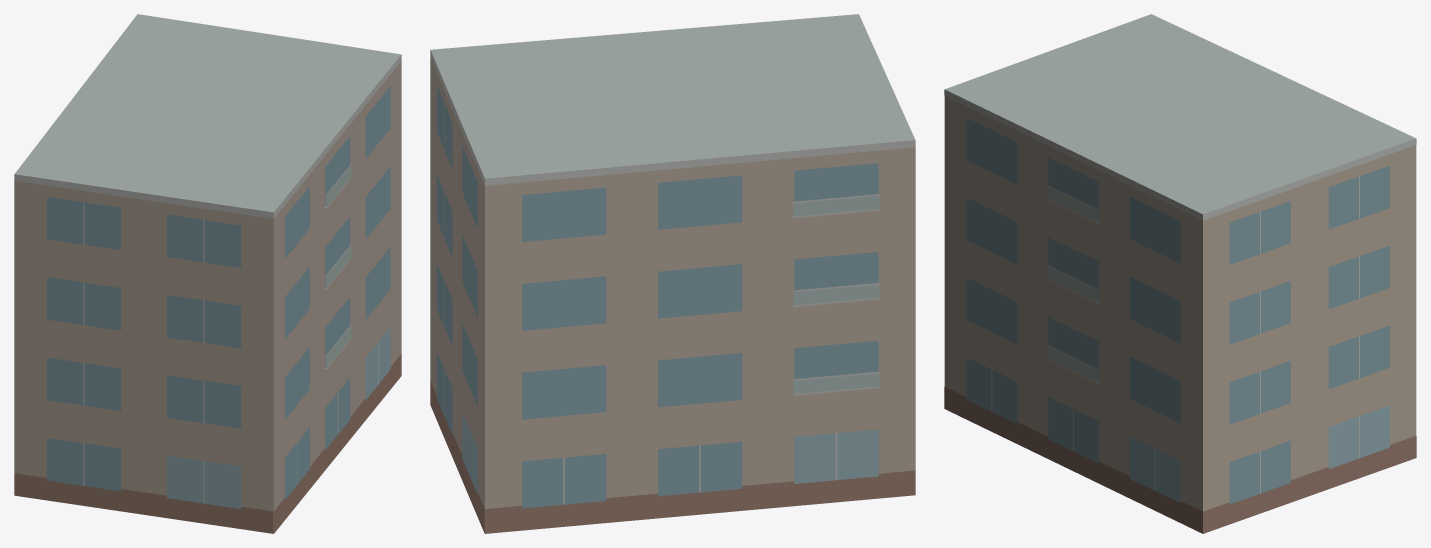
Rendered from survey-upis-32887373.glb.
3 views of the same model, side by side, from view 1: azimuth 30°, elevation 25°; view 2: azimuth 150°, elevation 25°; view 3: azimuth 270°, elevation 25° (orthographic). The views are drawn at different scales.
Visible parts, largest first — view 1: survey-upis-32887373.tmp; view 2: survey-upis-32887373.tmp; view 3: survey-upis-32887373.tmp.
Part boxes in pixels (x1,y1,x2,y2): survey-upis-32887373.tmp: (14, 14, 401, 533); survey-upis-32887373.tmp: (430, 14, 915, 533); survey-upis-32887373.tmp: (944, 14, 1416, 533).
Bounding box in the file's own units: 16.28 × 12.1 × 16.21.
